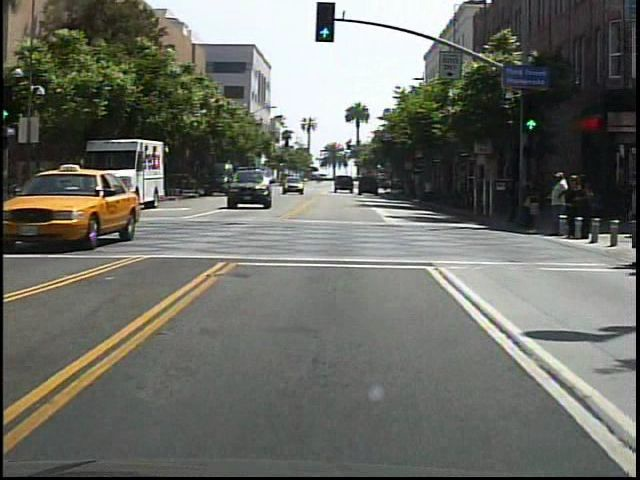person: (544, 168, 570, 240), (35, 161, 51, 196), (23, 162, 37, 200)
